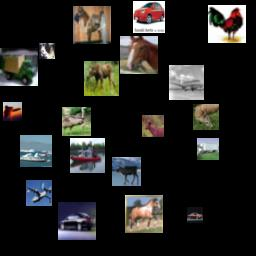airplane: (169, 65, 204, 100), (26, 180, 52, 206), (3, 102, 22, 121)
automobile: (58, 202, 96, 240), (133, 1, 165, 33), (187, 207, 203, 223)
bird: (208, 5, 246, 43), (62, 107, 91, 136)
deer: (84, 61, 119, 96), (112, 157, 141, 186), (193, 104, 219, 130), (142, 115, 164, 137)
ship: (70, 138, 105, 173), (20, 135, 52, 167)
truck: (0, 48, 38, 86), (197, 138, 219, 160)
